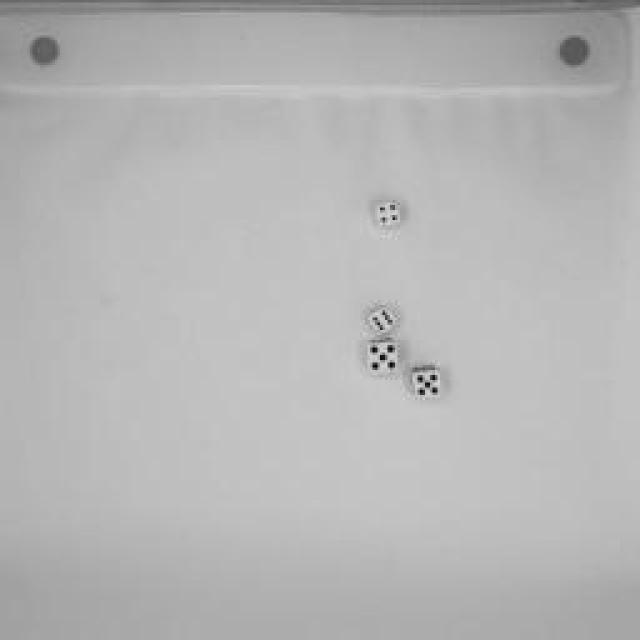dice_4: (370, 198, 405, 232)
dice_5: (360, 336, 408, 382), (404, 359, 448, 406)
dice_6: (365, 302, 400, 338)
